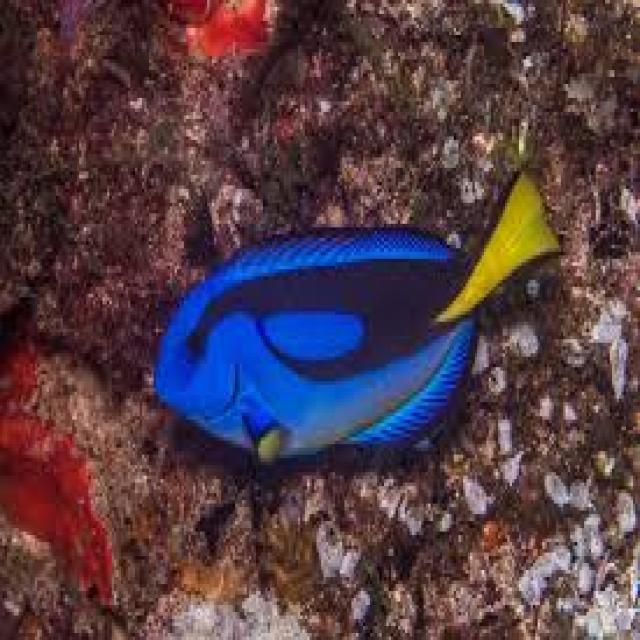BlueTang: (151, 175, 559, 458)
